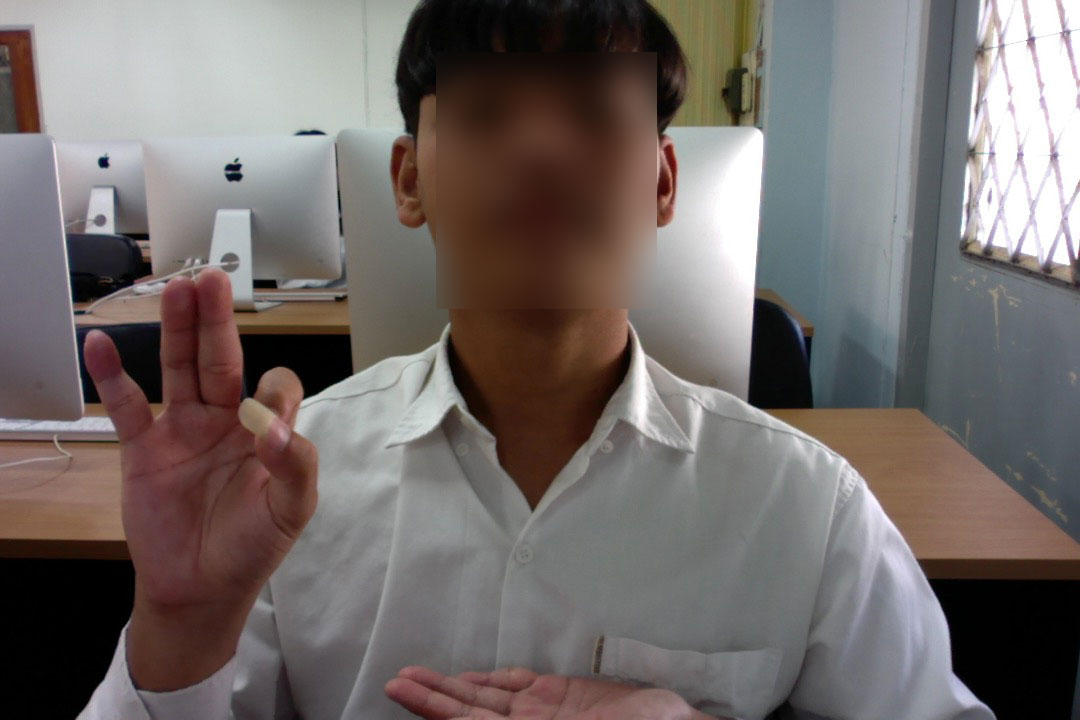for: (60, 240, 353, 665)
